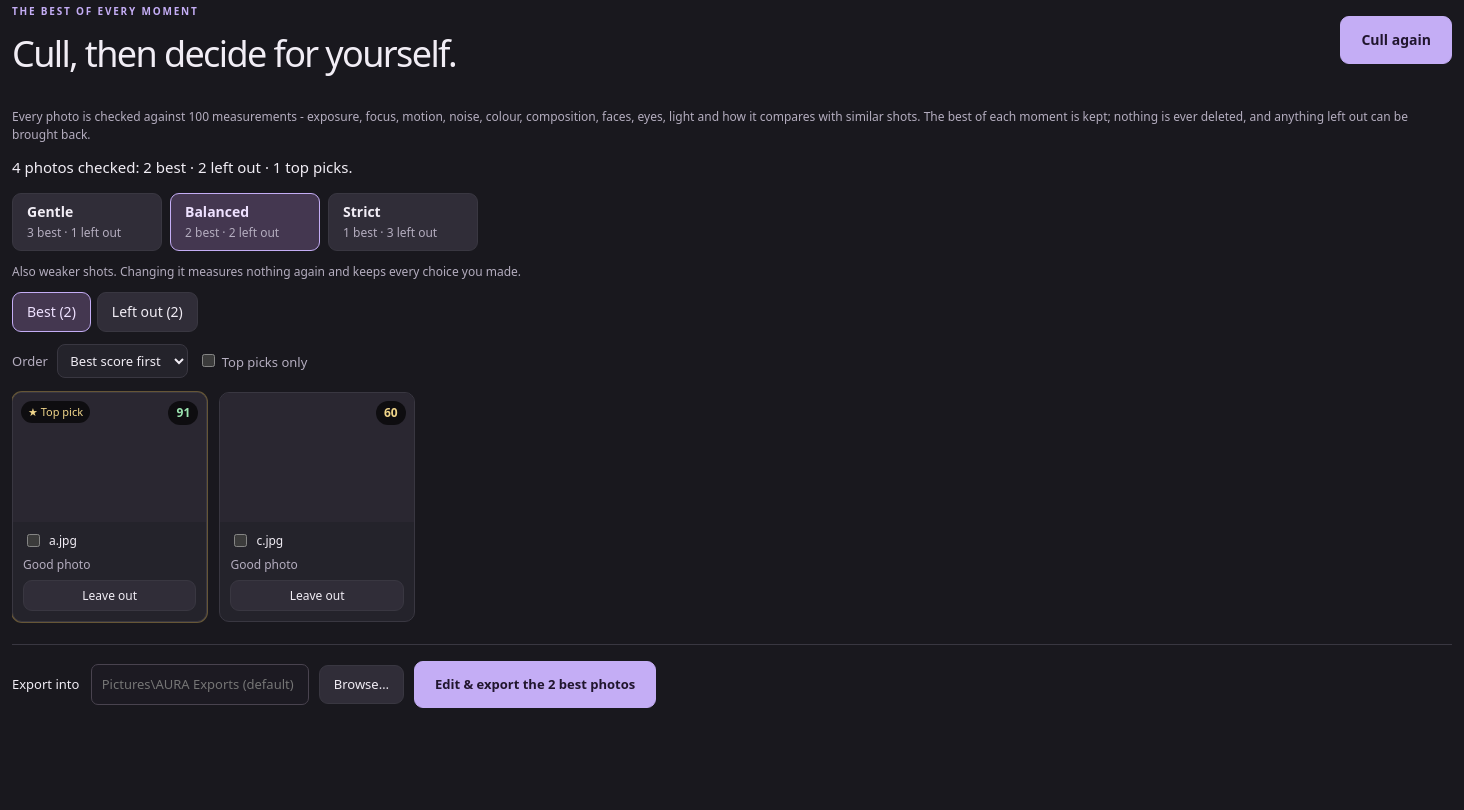
it: brings a left-out photo back with one click
Click the tab "Left out (2)" at (147, 312), box top-left (97, 292), bottom-right (198, 332)
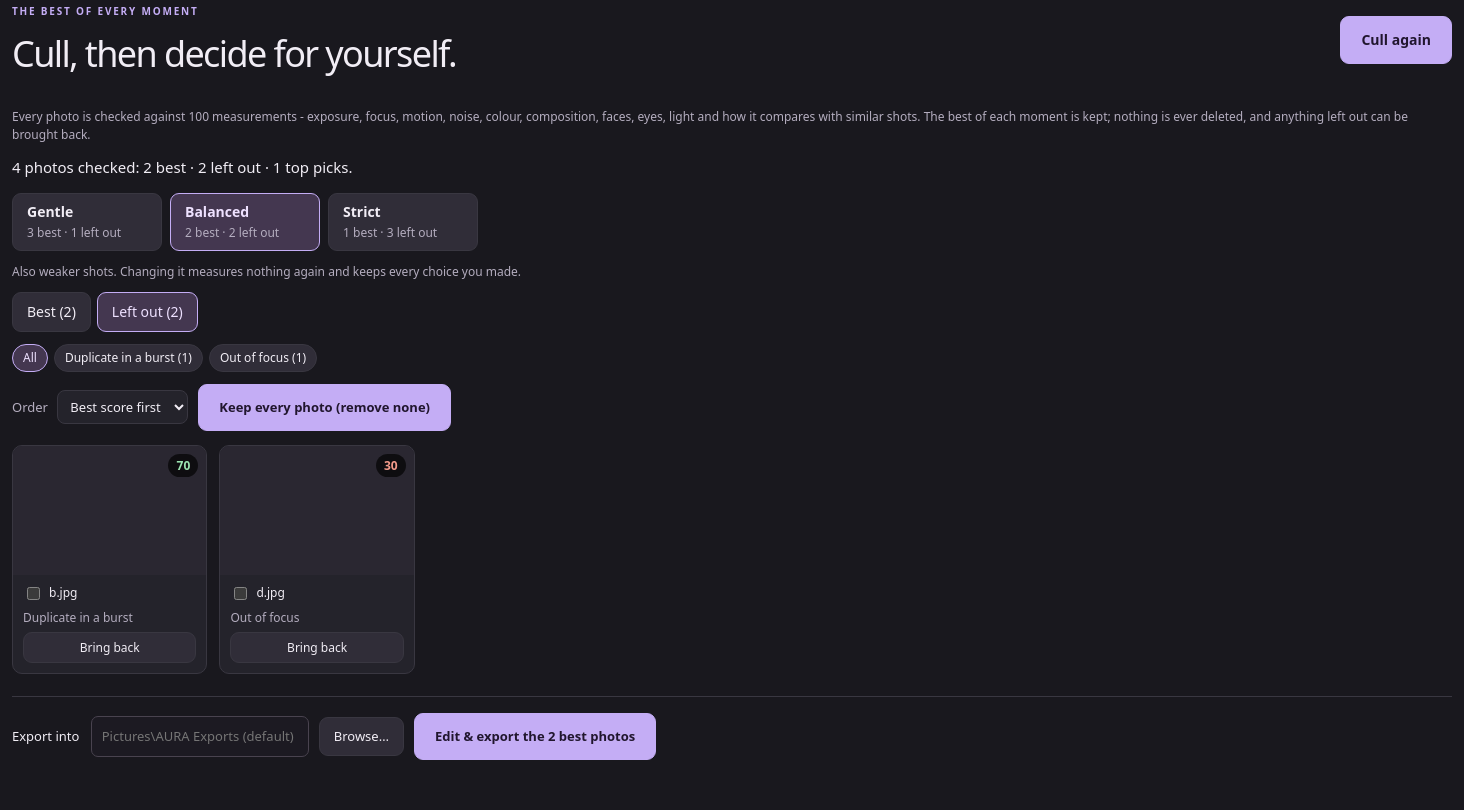
Click the button "Bring back" below "b.jpg" at (110, 648), box top-left (23, 632), bottom-right (196, 663)
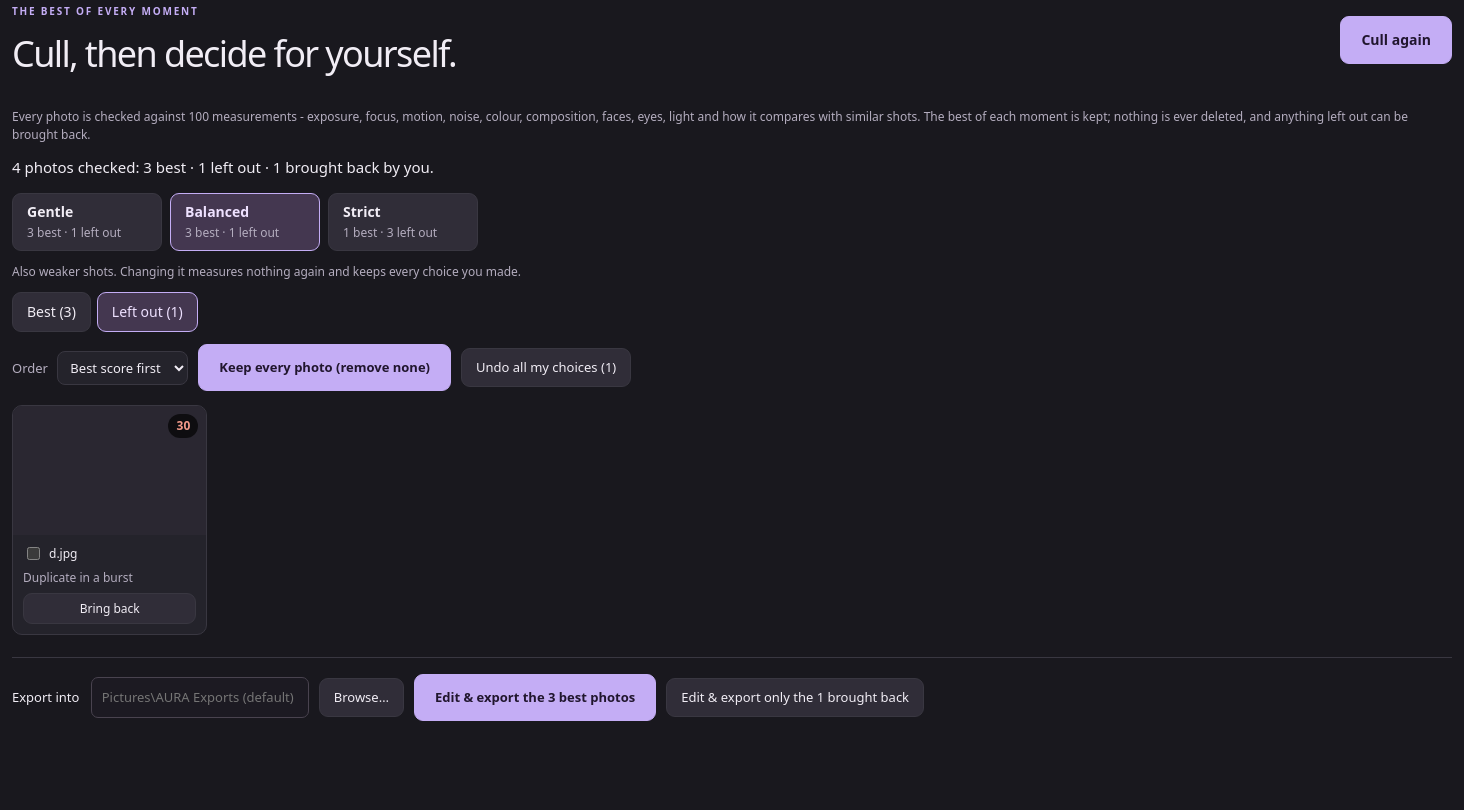
Expected: the tab "Left out (1)" is shown, top-left (97, 292), bottom-right (198, 332)
